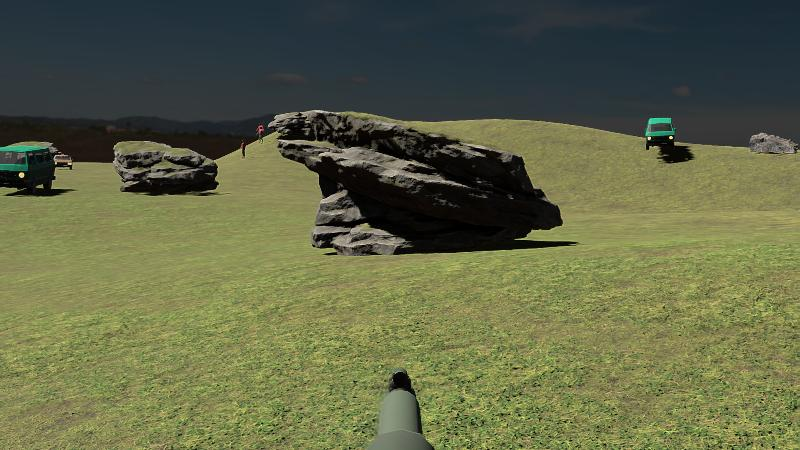car: (0, 146, 55, 195), (645, 117, 676, 150)
